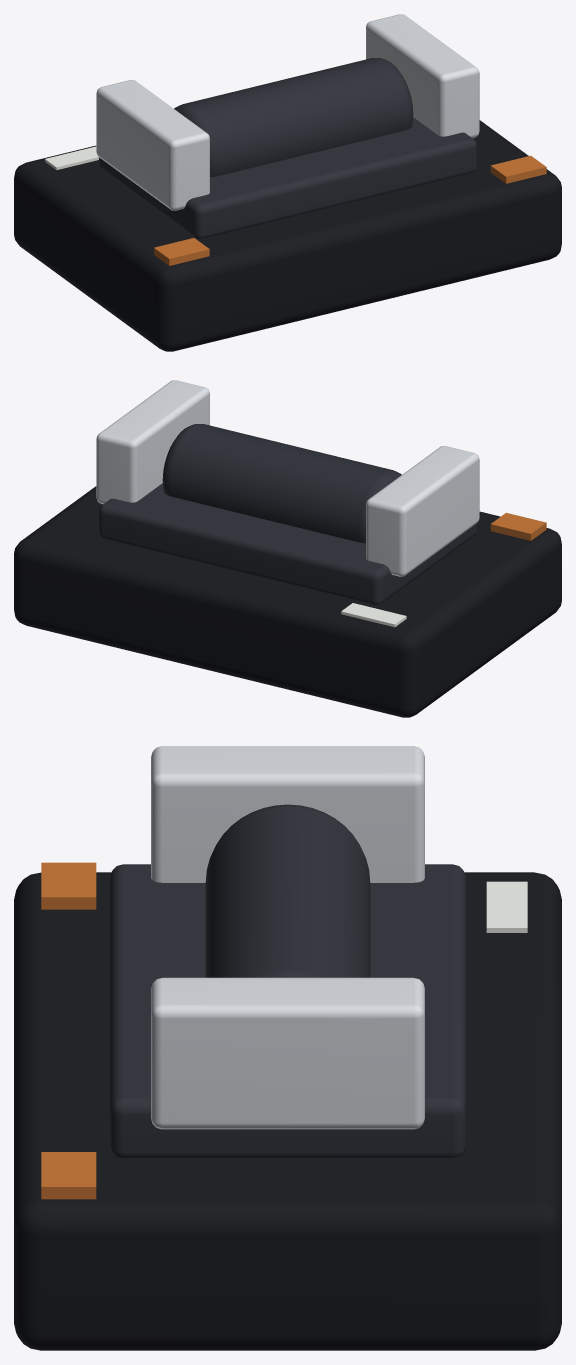
Rendered from lever_base.glb.
The picture shows the model from 3 angles, top to bottom: view 1: azimuth 30°, elevation 25°; view 2: azimuth 150°, elevation 25°; view 3: azimuth 270°, elevation 25°; orthographic projection. The views are drawn at different scales.
Parts seen in each view (by area): view 1: lever_base; view 2: lever_base; view 3: lever_base.
Part boxes in pixels (x1,y1,x2,y2): lever_base: (14, 14, 561, 351); lever_base: (14, 380, 561, 717); lever_base: (14, 746, 561, 1350).
Size of the model in its own units: 0.6 by 0.25 by 0.4.
